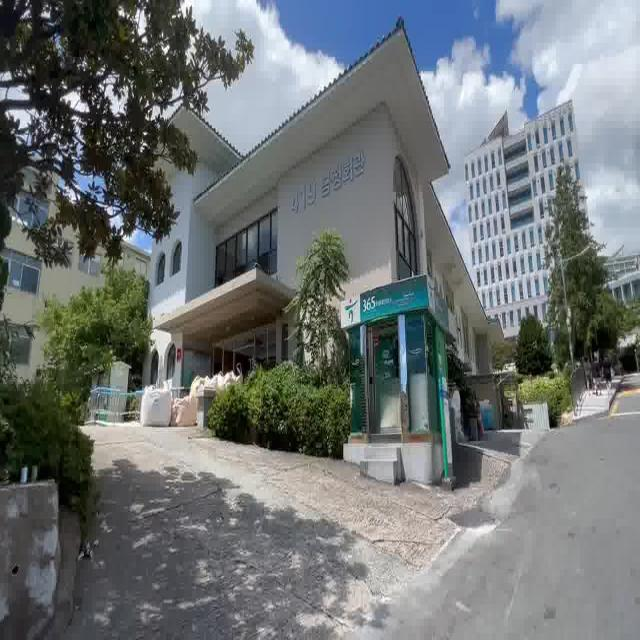building: (172, 95, 489, 372)
